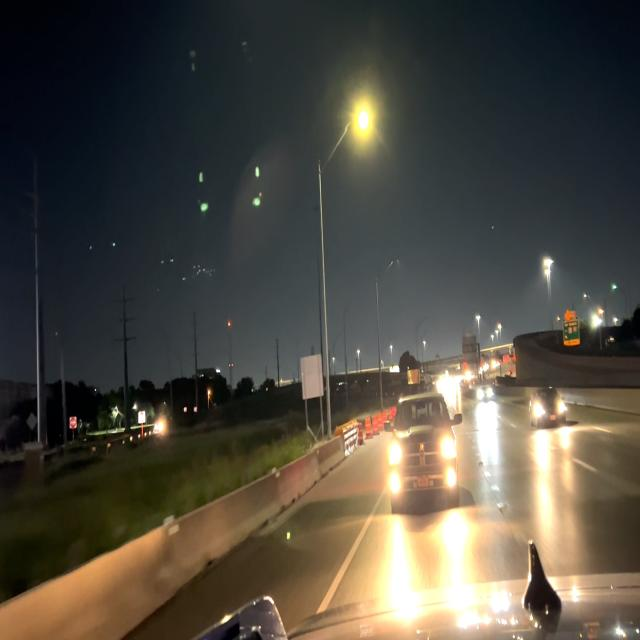back-of-sign: (303, 355, 323, 402)
